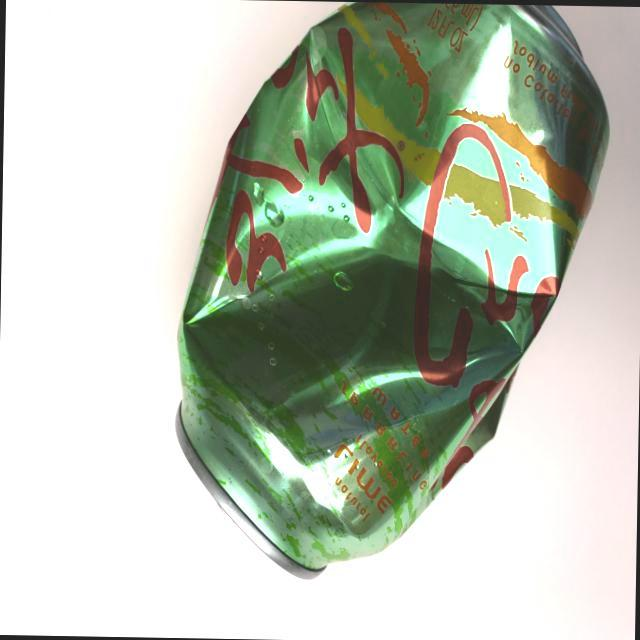metal: (152, 0, 618, 615)
